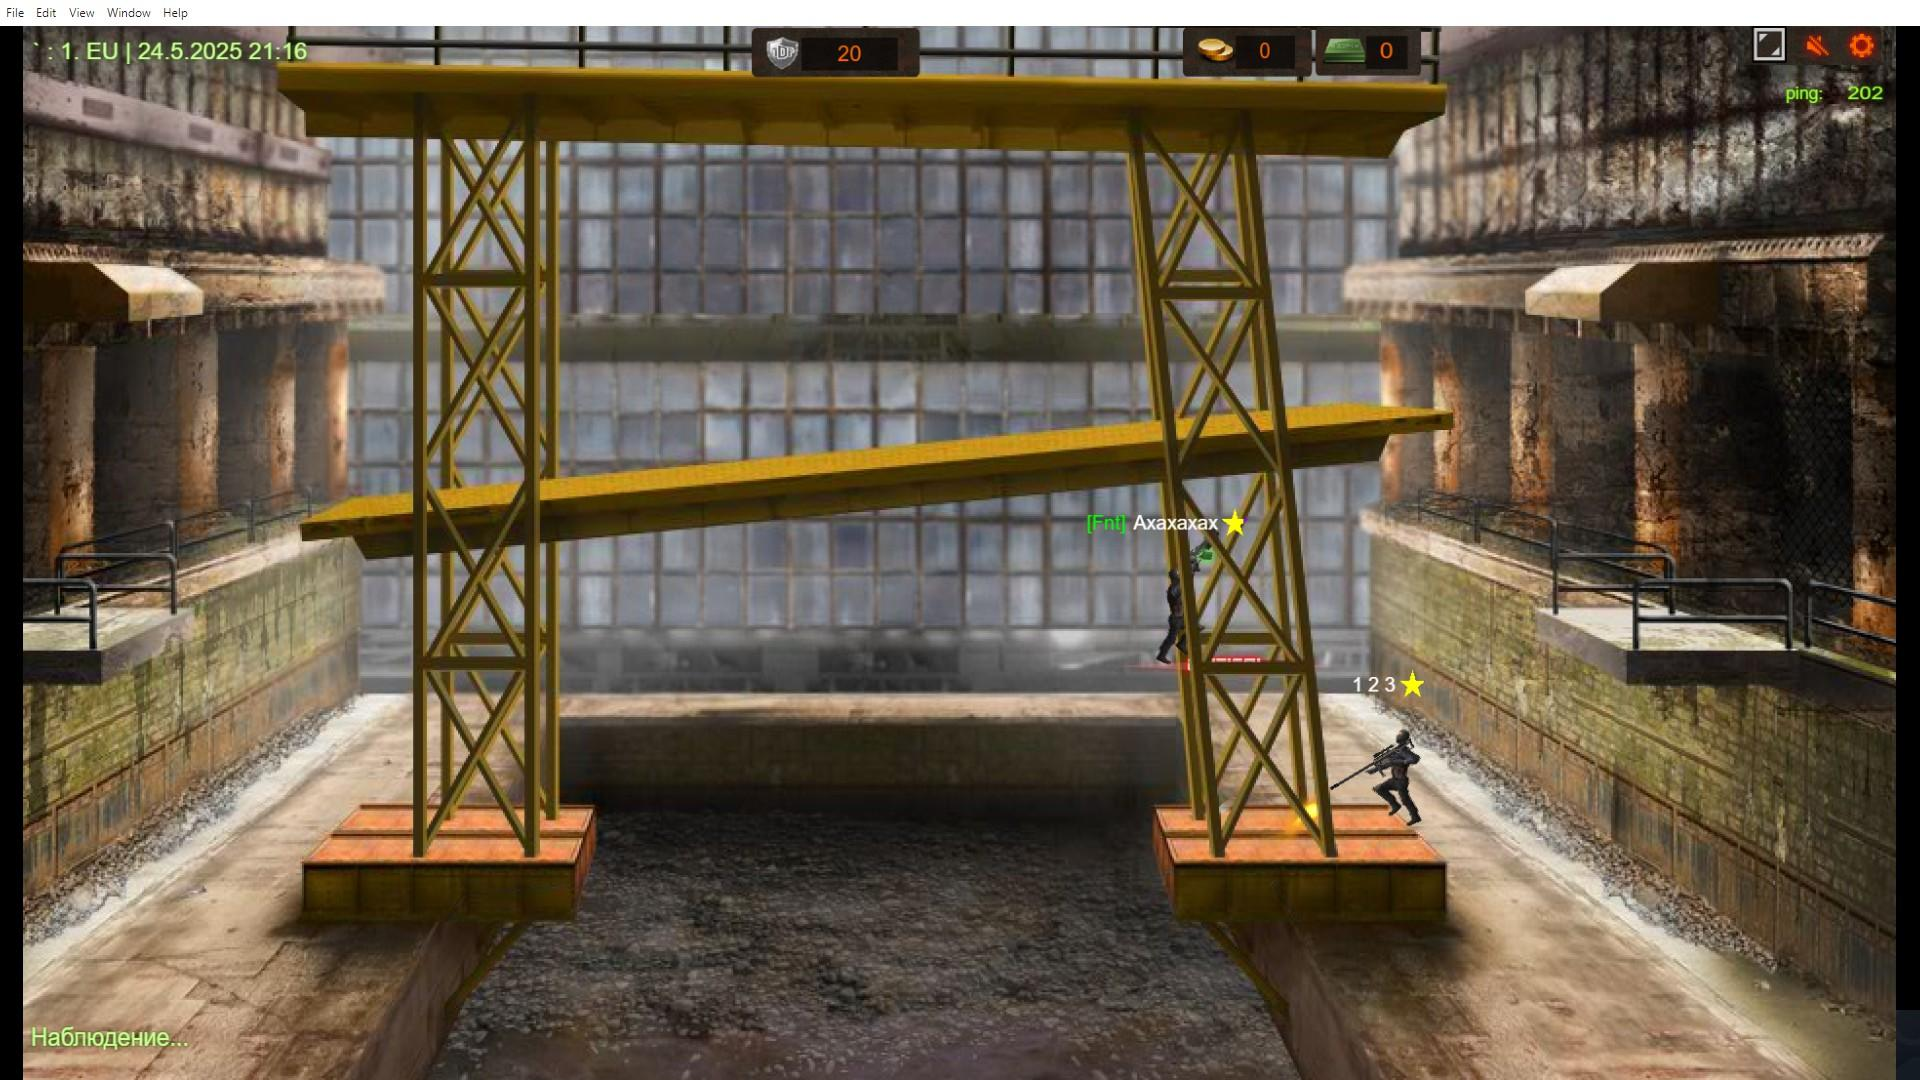enemy: (1390, 731, 1414, 818), (1167, 570, 1188, 663)
